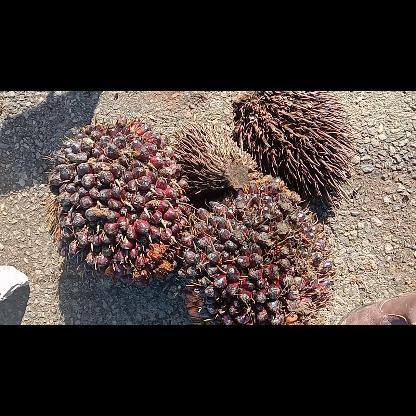Janjang kosong: (232, 90, 360, 206), (169, 121, 256, 193)
TBS mentah: (43, 115, 195, 284), (178, 176, 336, 324)
